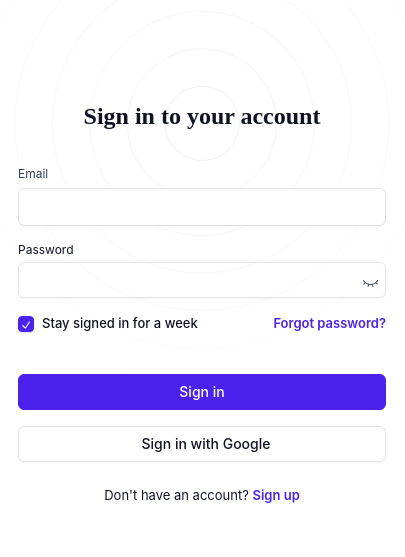
Test: Login page › should show required error when password is left blank
This screenshot has width=405, height=557.
In the field named "email": (202, 207) left=19, top=189, right=385, bottom=225, type "hamsacodes@gmail.com"
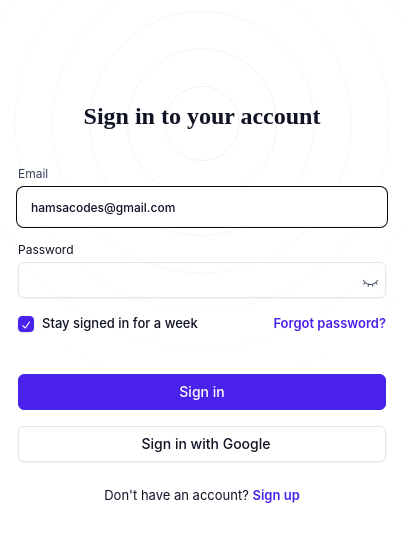
Click the button with test id "signin-btn": (202, 392) left=18, top=374, right=386, bottom=410
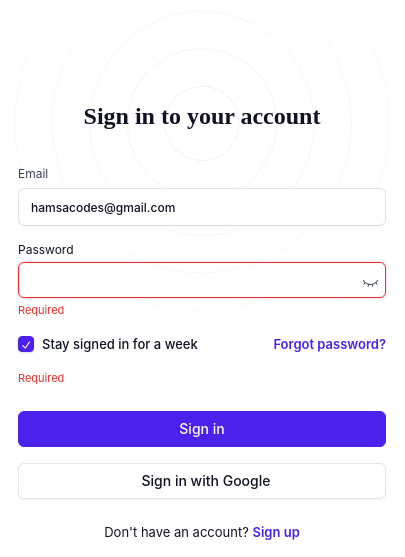
Expected: the 1st text "Required" is shown, left=18, top=303, right=64, bottom=317
